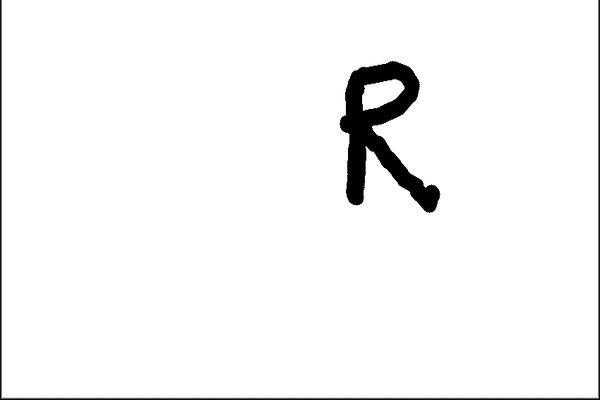R: (337, 51, 447, 223)
